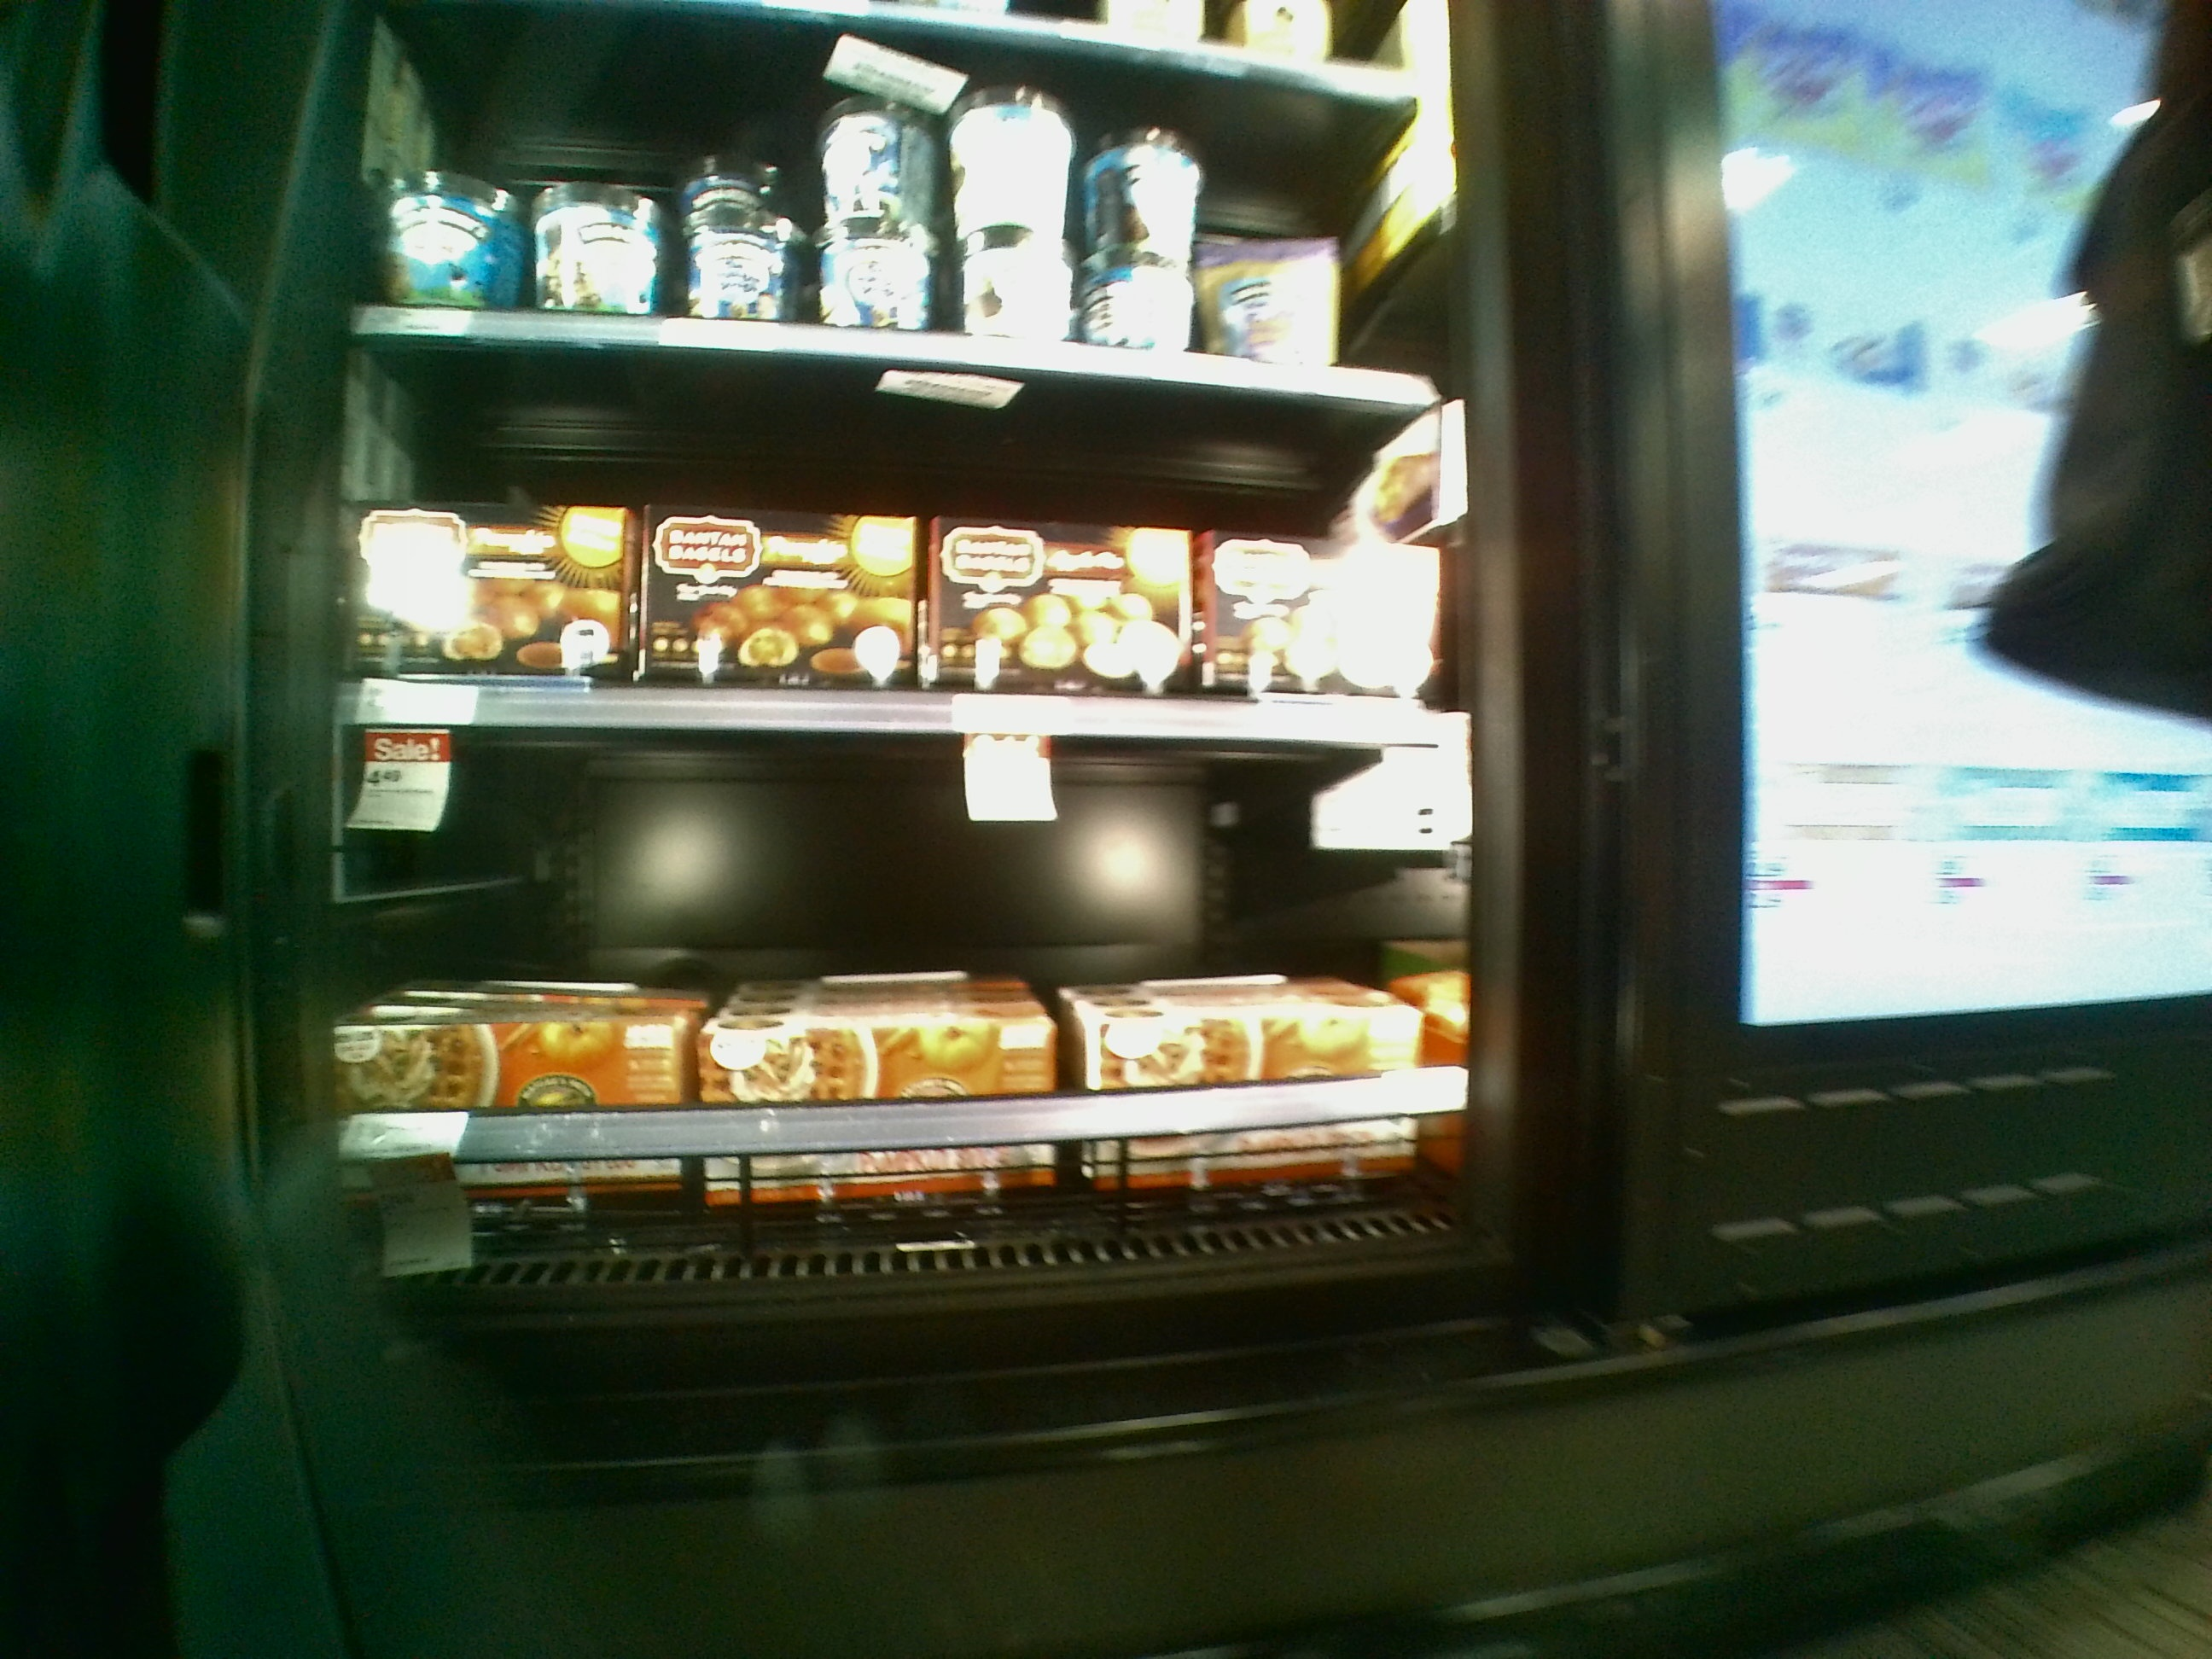shelf: (322, 711, 1503, 1276), (329, 329, 1479, 749)
